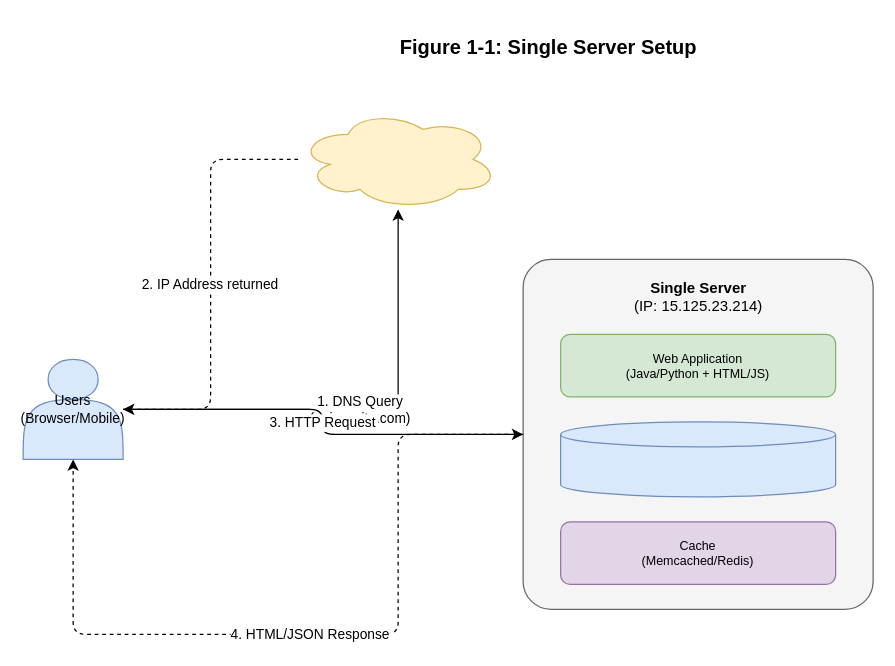
This 895x666 diagram has some shape labels left out. Each missing label, with the box of its shape:
Database (MySQL/PostgreSQL): (559, 421, 836, 497)
DNS (3rd Party): (297, 108, 498, 209)
